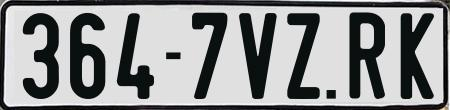3: (21, 13, 63, 101)
4: (116, 12, 155, 102)
6: (70, 10, 109, 100)
7: (189, 12, 229, 101)
K: (398, 12, 435, 102)
R: (347, 11, 384, 103)
V: (239, 13, 282, 104)
Z: (284, 13, 322, 102)
